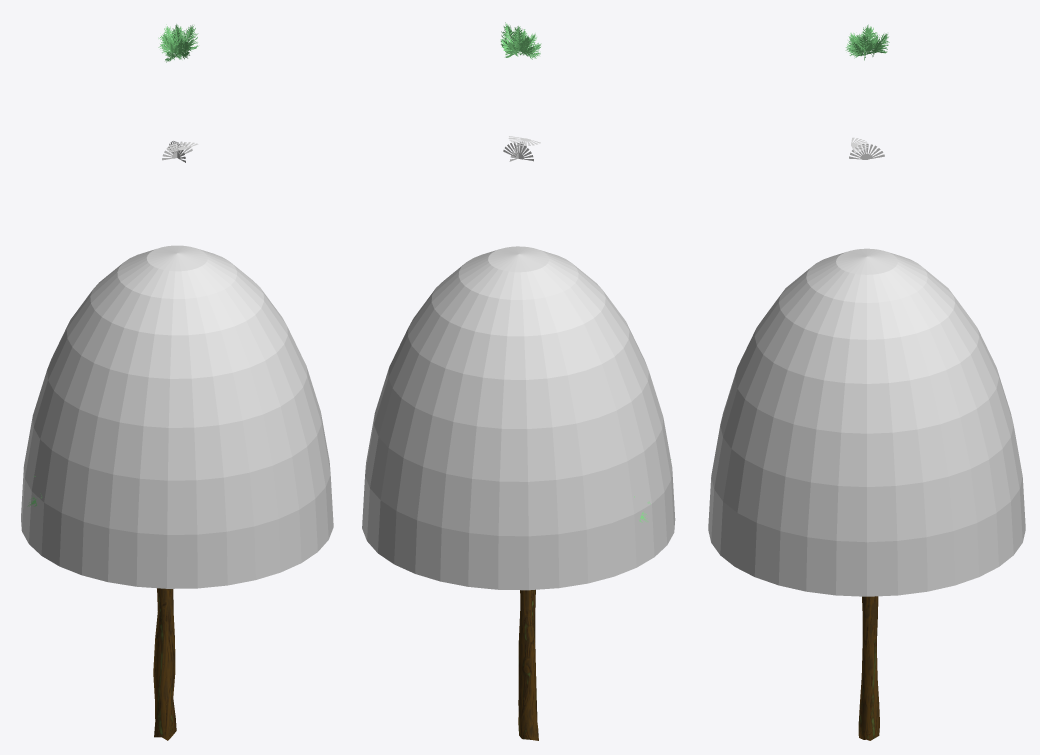
3 renders of one model, left to right at view 1: azimuth 30°, elevation 25°; view 2: azimuth 150°, elevation 25°; view 3: azimuth 270°, elevation 25°, orthographic.
Visible parts, largest first — view 1: 球体, trunk; view 2: 球体, trunk, leaf; view 3: 球体, trunk.
Part boxes in pixels (x1,y1,x2,y2): 球体: (21, 245, 333, 588); trunk: (153, 588, 176, 740); 球体: (362, 246, 675, 590); trunk: (518, 589, 538, 740); leaf: (503, 136, 540, 161); 球体: (708, 248, 1025, 596); trunk: (858, 596, 879, 740).
Bounding box in the file's own units: 1817 × 4384 × 1739.
